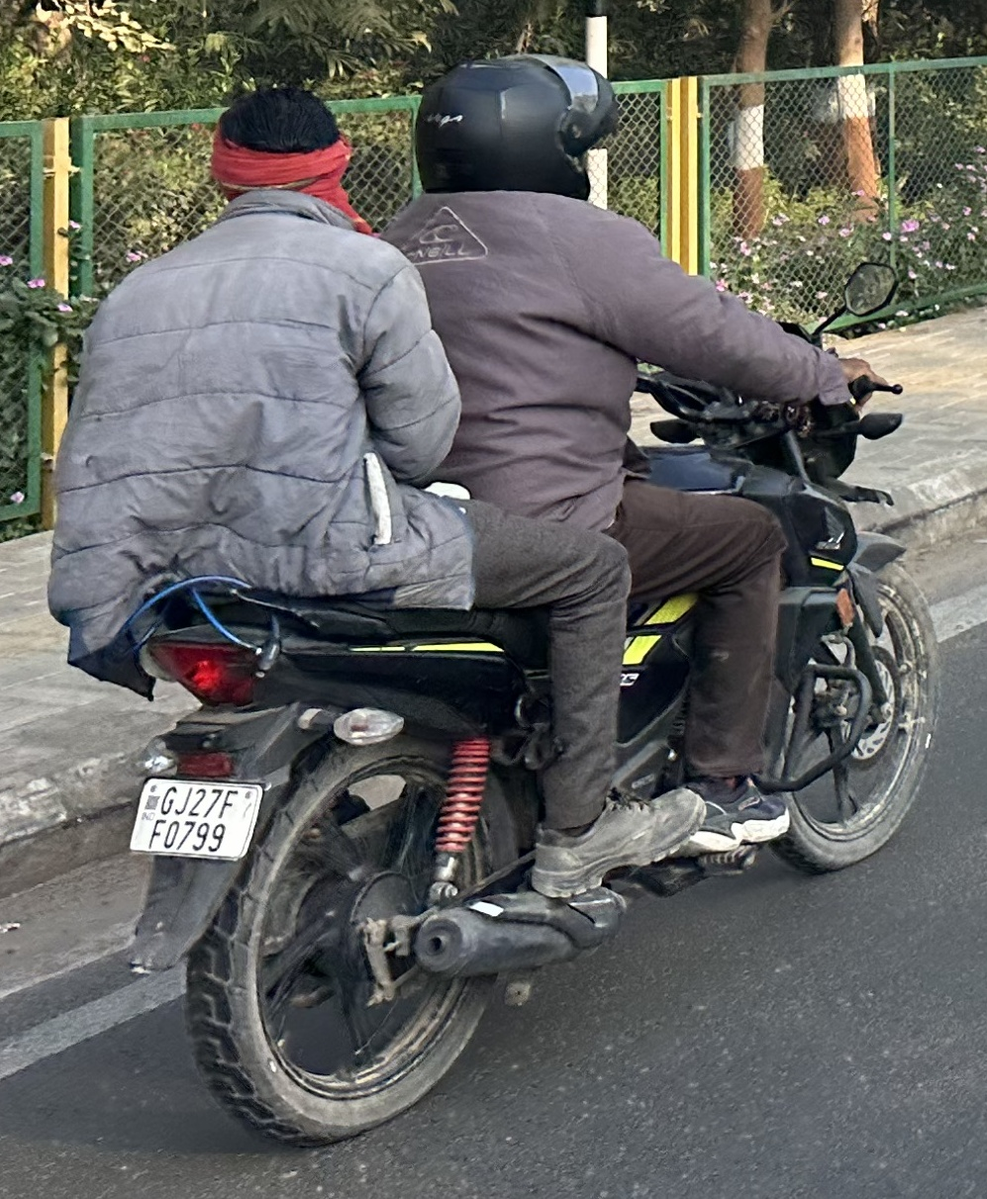BikeWithRider: (27, 43, 963, 1159)
Helmet: (393, 43, 635, 215)
NoHelmet: (183, 76, 382, 236)
